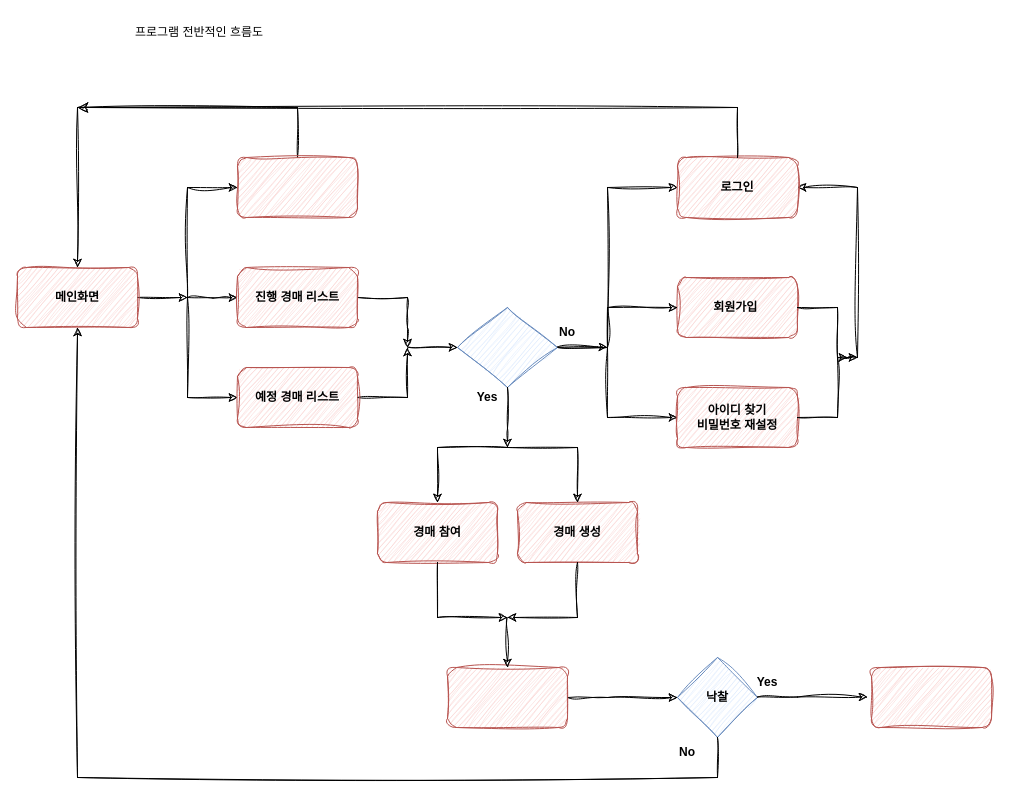
Some shapes in this 1009 by 803 pixel diagram are drawn without their labels. The centre of each missing label's shape, as x and y in pixels:
"1:1 거래" goes at (x=931, y=697).
"검색과 필터" goes at (x=297, y=187).
"경매 진행" goes at (x=507, y=697).
"로그인 여부 확인" goes at (x=507, y=347).
